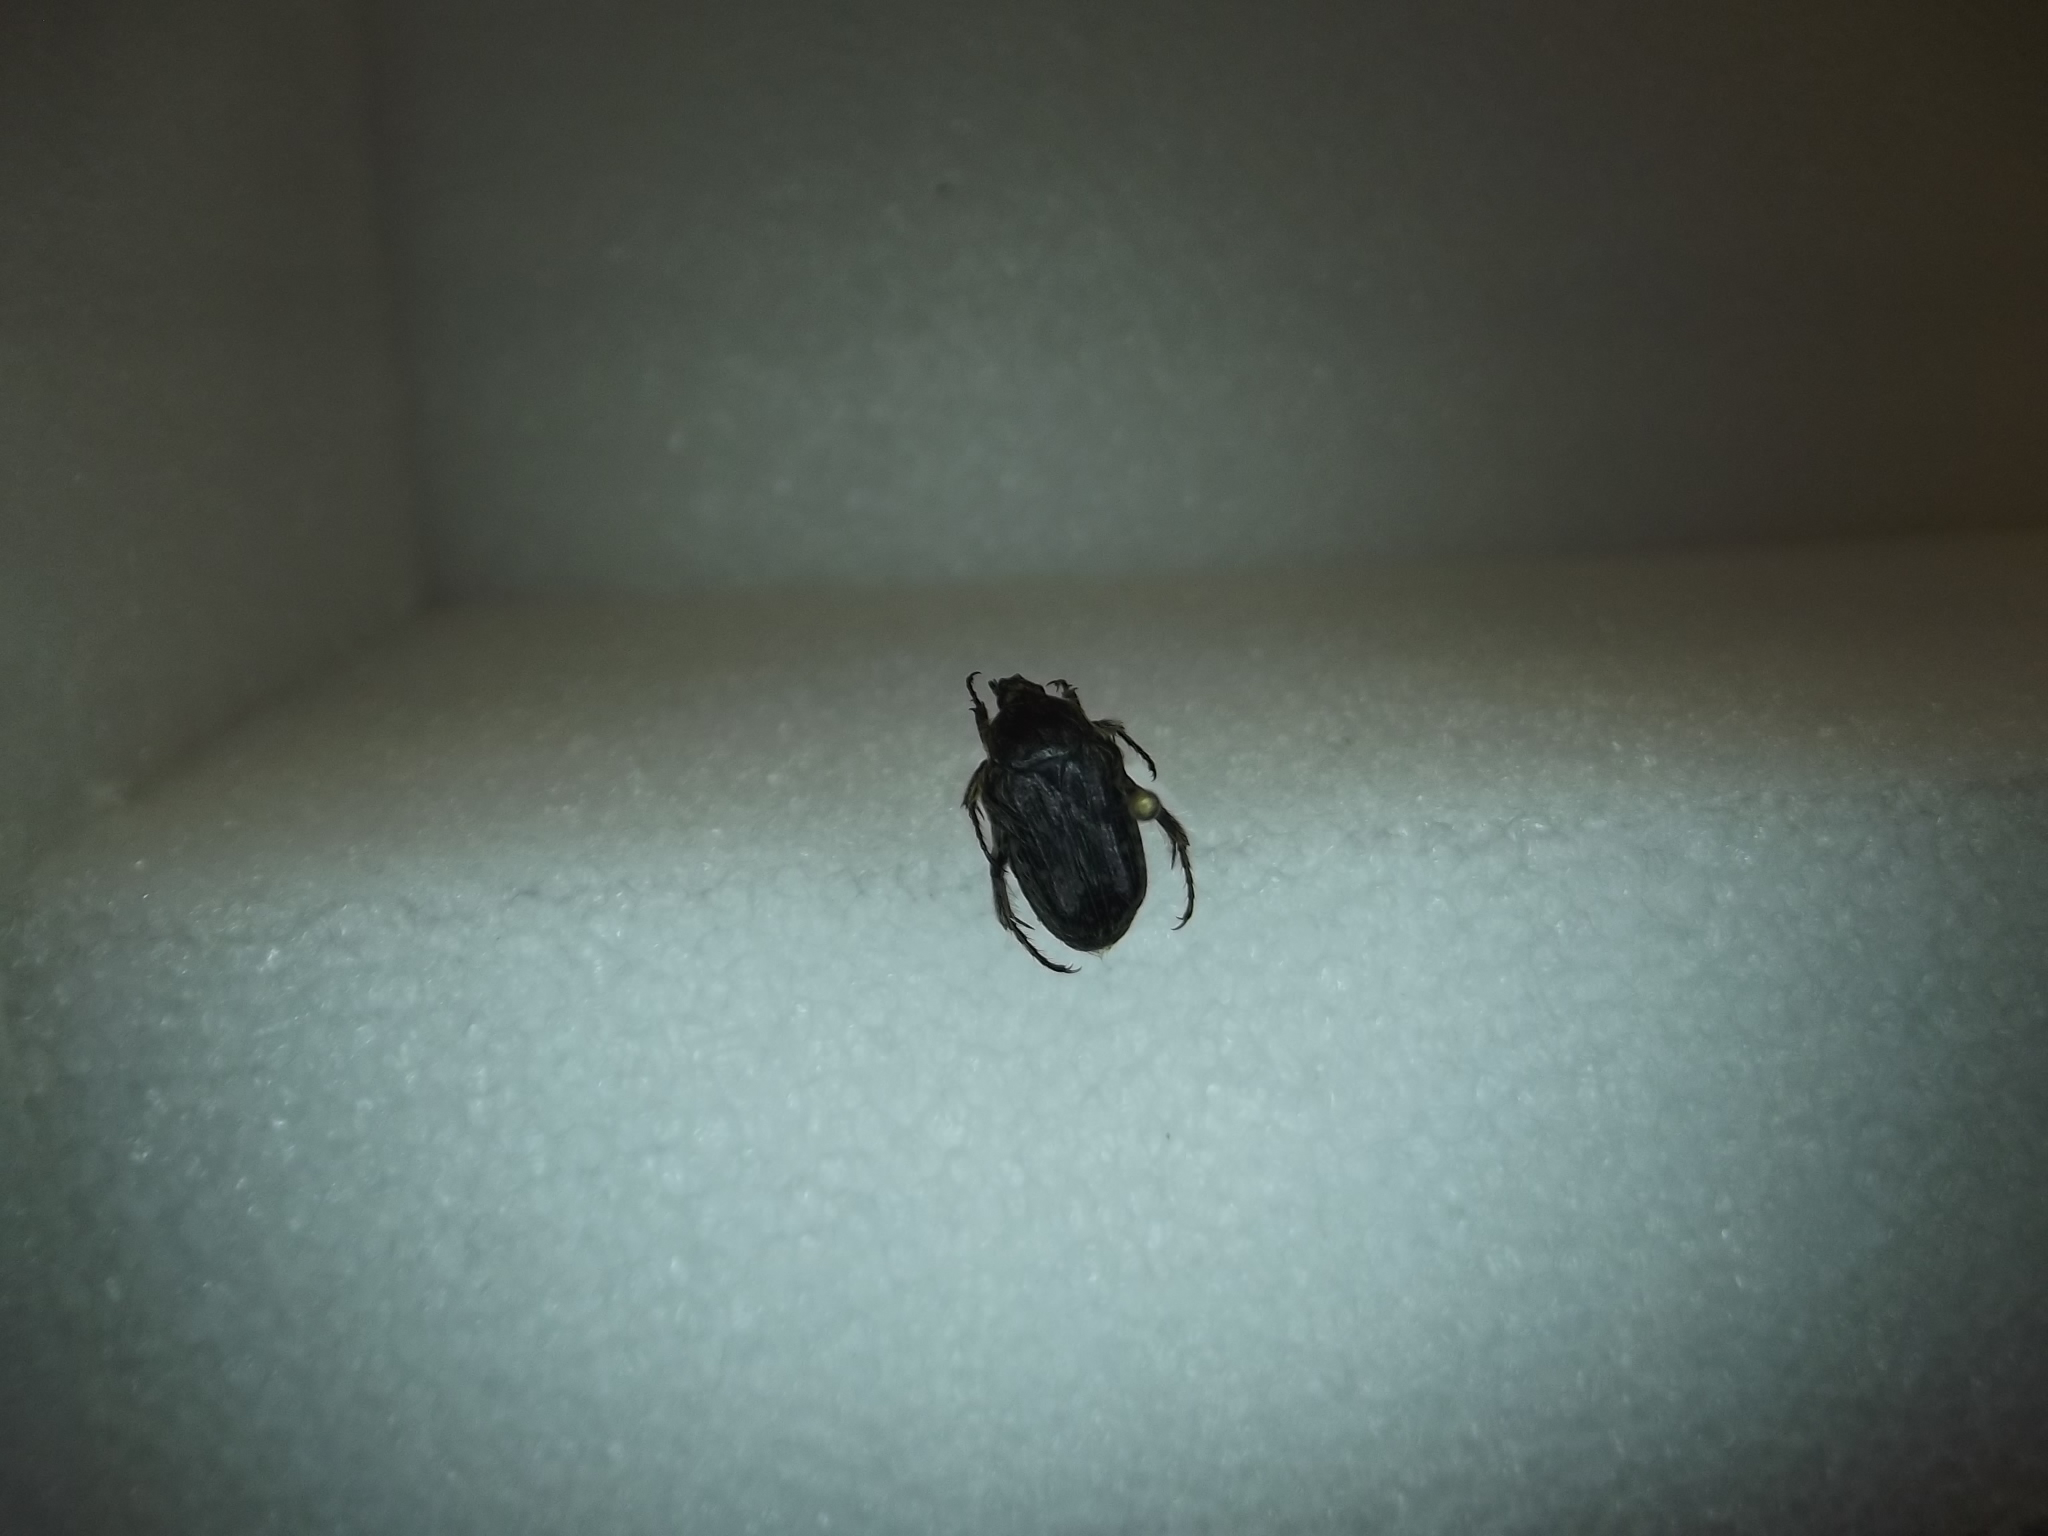Tropinota_senicula: (943, 660, 1234, 986)
